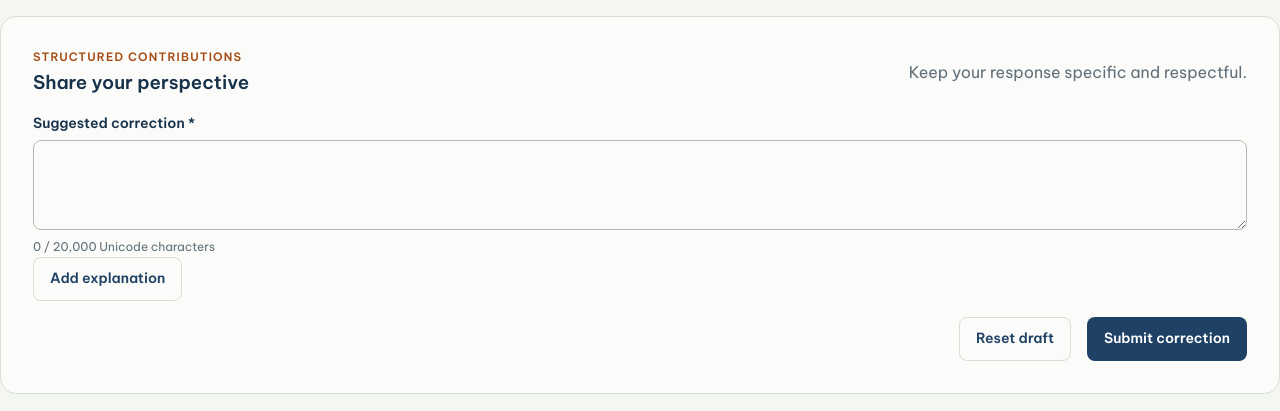
Test case: associates must differ validation with the primary field
Type "Original" into the text box.
click(640, 185); type("Original")  # box [33,140,1247,230]
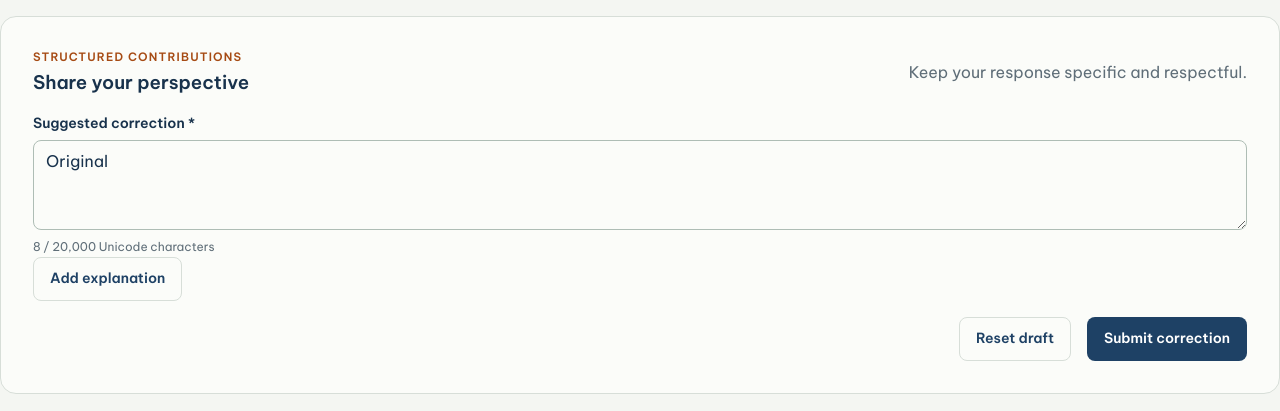
Submit the form, box [33,114,1247,361]
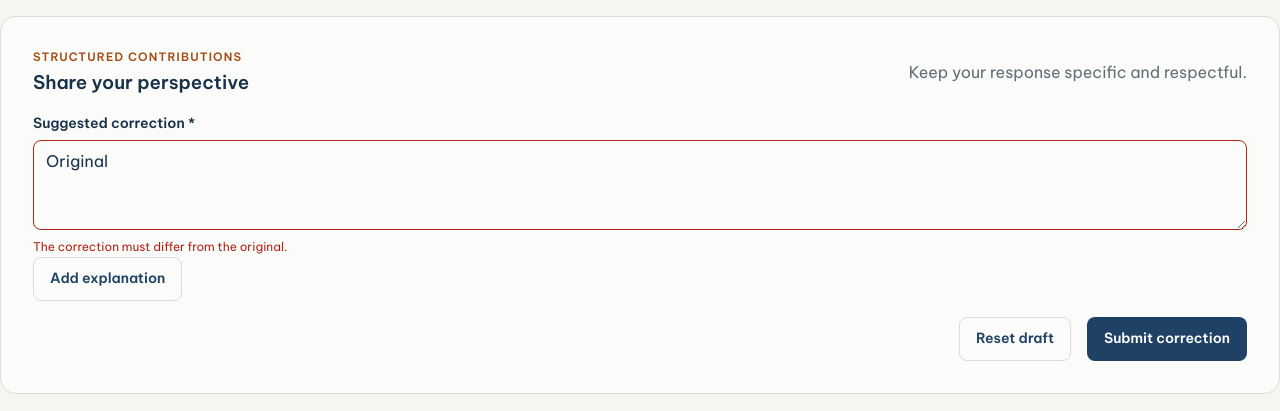
Expected: the number of messages is 1, [33,239,288,254]
